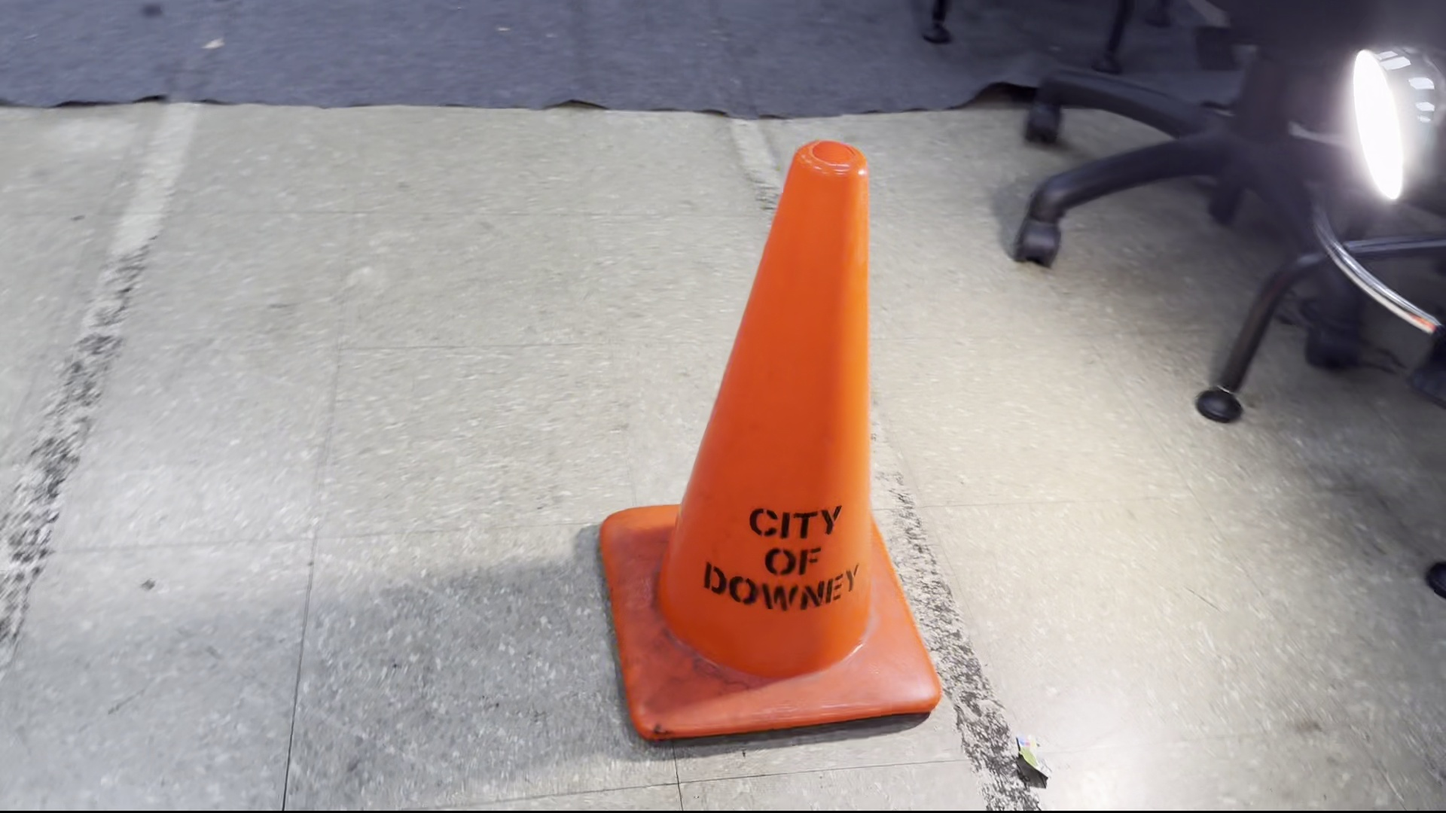traffic_cone: (597, 138, 944, 743)
